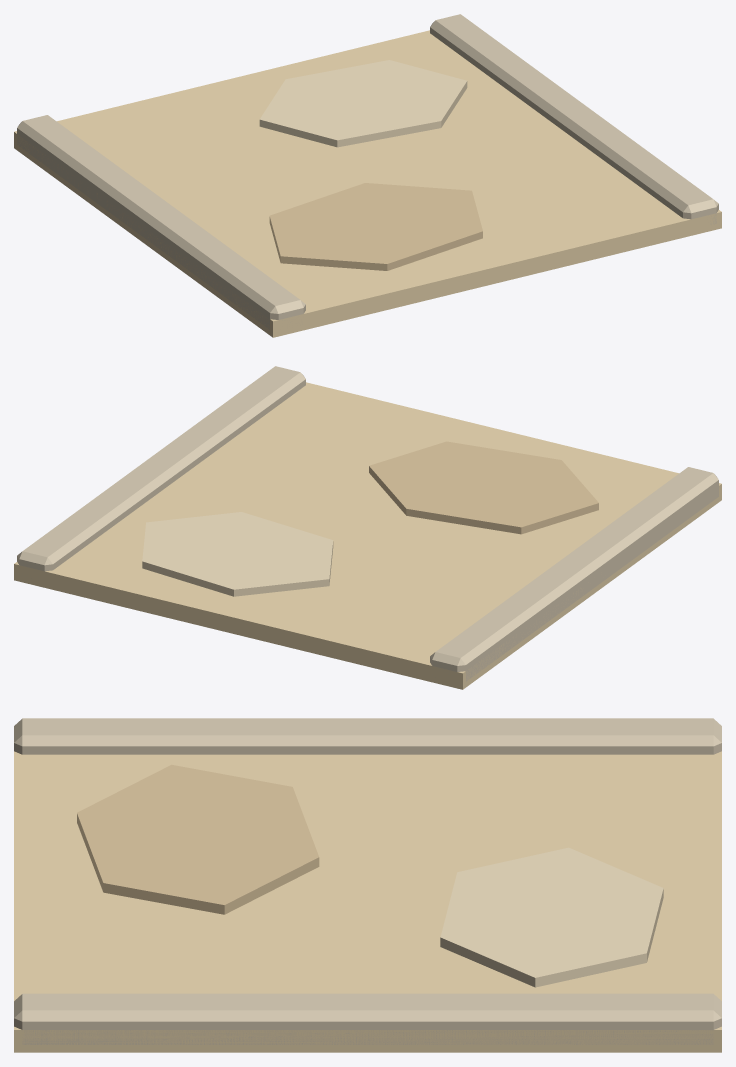
Rendered from path.glb.
3 views of the same model, one above another, from view 1: azimuth 30°, elevation 25°; view 2: azimuth 150°, elevation 25°; view 3: azimuth 270°, elevation 25° (orthographic). The views are drawn at different scales.
Visible parts, largest first — view 1: path; view 2: path; view 3: path.
Boxes of the visible parts, box(x1,y1,x2,y2) form: path: box(14, 14, 721, 337); path: box(14, 366, 721, 689); path: box(14, 718, 721, 1052).
Size of the model in its own units: 1 by 0.06 by 1.
